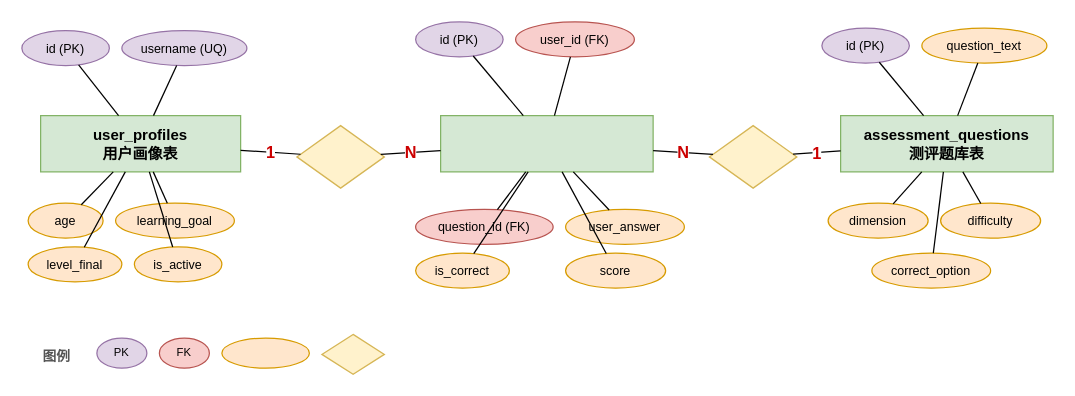
Some shapes in this 1075 by 396 pixel diagram are drawn without their labels. The centre of each missing label's shape, as x and y in pixels:
assessment_records 测评记录表: the point at 546,143
作答: the point at 340,156
关系: the point at 352,353
包含: the point at 752,156
普通属性: the point at 265,352
